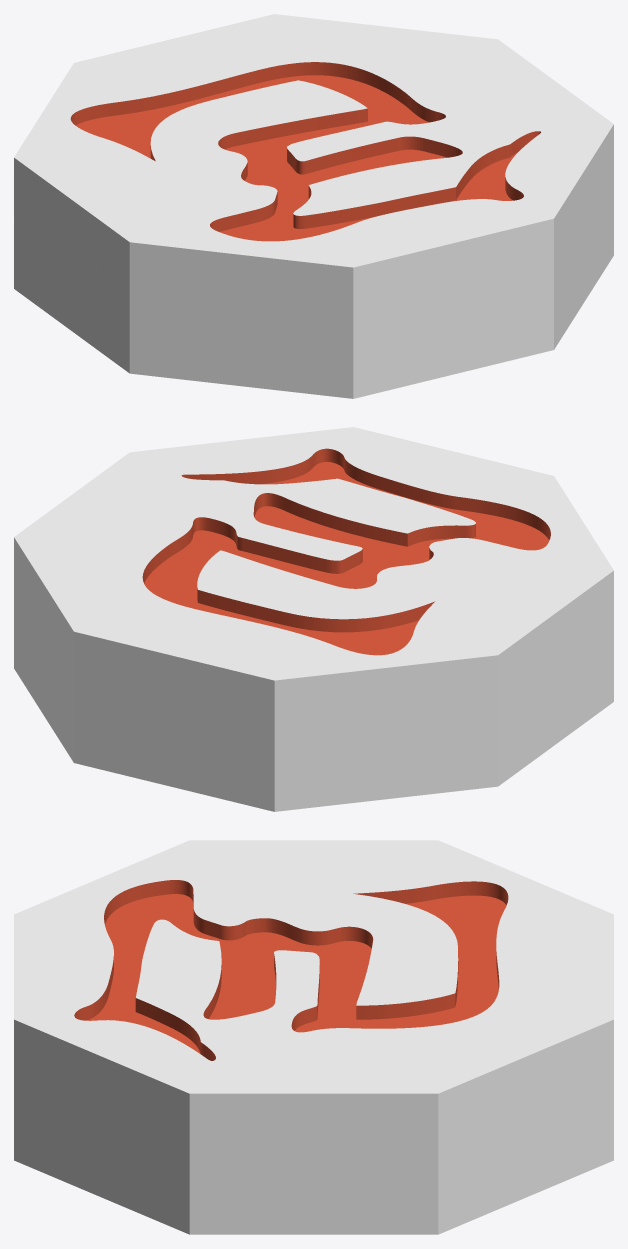
3 views of the same model, one above another, from view 1: azimuth 30°, elevation 25°; view 2: azimuth 150°, elevation 25°; view 3: azimuth 270°, elevation 25° (orthographic). The views are drawn at different scales.
Parts seen in each view (by area): view 1: 한_포; view 2: 한_포; view 3: 한_포.
Boxes of the visible parts, bbox=[...] form: 한_포: bbox=[14, 14, 613, 398]; 한_포: bbox=[14, 427, 613, 811]; 한_포: bbox=[14, 840, 613, 1234].
Bounding box in the file's own units: 2700 × 700 × 2700.
